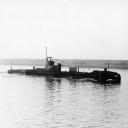submarine: (28, 57, 123, 83)
